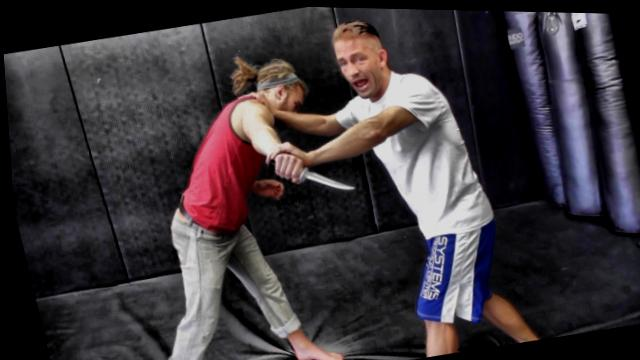knife: (259, 140, 359, 210)
